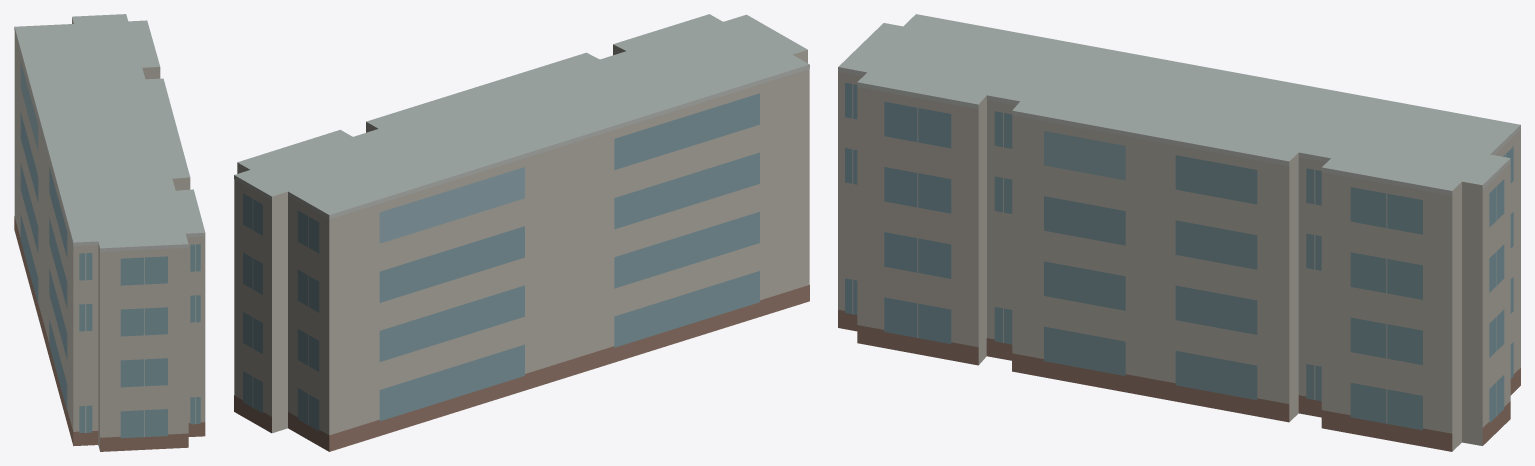
The model's file is survey-upis-32806637.glb.
3 views of the same model, side by side, from view 1: azimuth 30°, elevation 25°; view 2: azimuth 150°, elevation 25°; view 3: azimuth 270°, elevation 25° (orthographic). The views are drawn at different scales.
Parts seen in each view (by area): view 1: survey-upis-32806637.tmp; view 2: survey-upis-32806637.tmp; view 3: survey-upis-32806637.tmp.
Part boxes in pixels (x1,y1,x2,y2): survey-upis-32806637.tmp: (14,14,205,451); survey-upis-32806637.tmp: (234,14,809,451); survey-upis-32806637.tmp: (838,14,1520,451).
Size of the model in its own units: 19.67 by 13.51 by 32.05.
